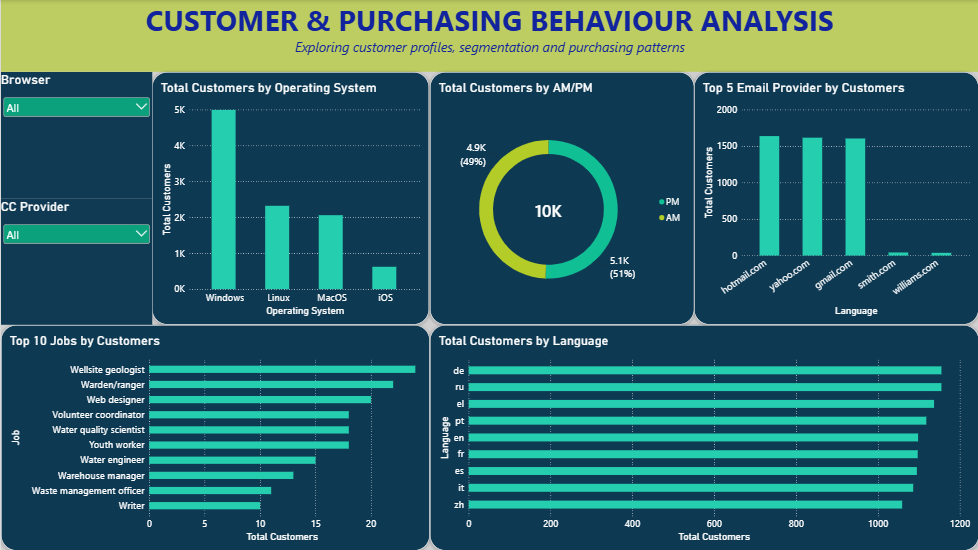

This screenshot's page, from the dashboard's own definition file:
{"tool":"powerbi","page":{"name":"Page 2","canvas":[1920,1080],"ordinal":3},"visuals":[{"type":"textbox","box":[0,0,1920,141.1],"z":0},{"type":"barChart","title":"Total Customers by Language","fields":{"Category":["Ecommerce Purchases.Language"],"Y":["Ecommerce Purchases.Total Customers"]},"box":[841.6,637.5,1078.4,443.5],"z":1},{"type":"barChart","title":"Top 10 Jobs by Customers","fields":{"Category":["Ecommerce Purchases.Job"],"Y":["Ecommerce Purchases.Total Customers"]},"box":[0,637.5,841.6,443.5],"z":2},{"type":"columnChart","title":"Top 5 Email Provider by Customers","fields":{"Category":["Ecommerce Purchases.Email Provider"],"Y":["Ecommerce Purchases.Total Customers"]},"box":[1360.6,141.1,559.4,496.4],"z":3},{"type":"columnChart","title":"Total Customers by Operating System","fields":{"Category":["Ecommerce Purchases.Operating System"],"Y":["Ecommerce Purchases.Total Customers"]},"box":[297.3,141.1,544.3,496.4],"z":4},{"type":"slicer","title":"Browser","fields":{"Values":["Ecommerce Purchases.Browser"]},"box":[0,141.1,297.3,249.4],"z":5},{"type":"donutChart","title":"Total Customers by AM/PM","fields":{"Category":["Ecommerce Purchases.AM or PM"],"Y":["Ecommerce Purchases.Total Customers"]},"box":[841.6,141.1,519.1,496.4],"z":6},{"type":"slicer","title":"CC Provider","fields":{"Values":["Ecommerce Purchases.CC Provider"]},"box":[0,390.6,297.3,246.9],"z":7}]}

Visuals, with their boxes in screenshot pixels (x1, y1, x2, y2), scaled from the page's 1920x1080 canvas onto the 978x550 screenshot:
textbox: bbox(0, 0, 977, 72)
"Total Customers by Language" barChart: bbox(429, 325, 977, 549)
"Top 10 Jobs by Customers" barChart: bbox(0, 325, 429, 549)
"Top 5 Email Provider by Customers" columnChart: bbox(693, 72, 977, 325)
"Total Customers by Operating System" columnChart: bbox(151, 72, 429, 325)
"Browser" slicer: bbox(0, 72, 151, 199)
"Total Customers by AM/PM" donutChart: bbox(429, 72, 693, 325)
"CC Provider" slicer: bbox(0, 199, 151, 325)
